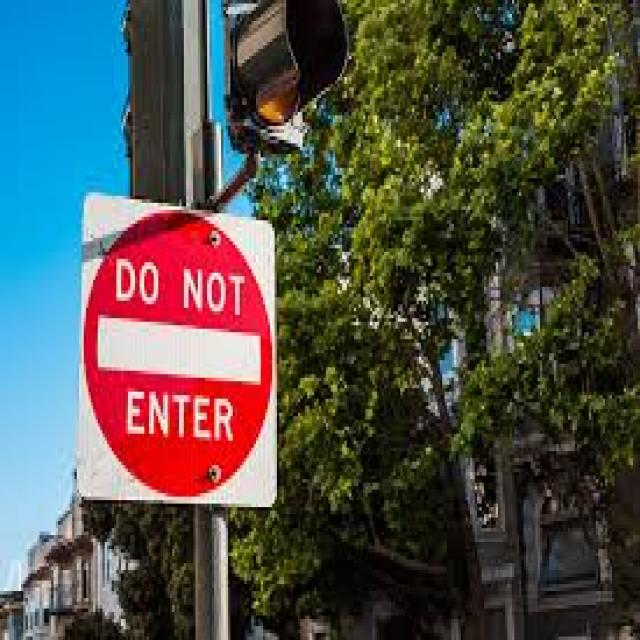doNotEnter: (79, 205, 276, 502)
